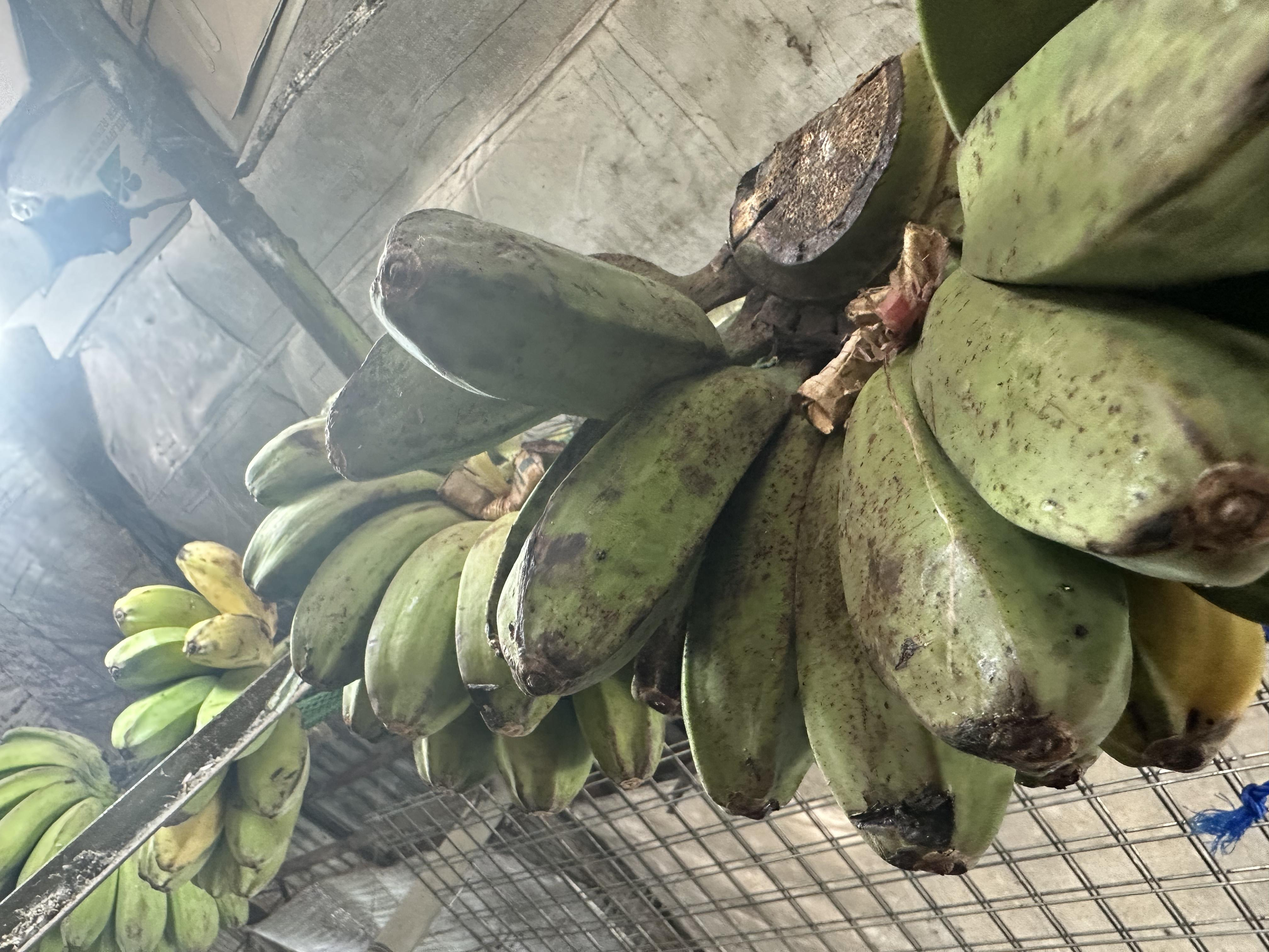underripe: (326, 0, 1269, 874), (244, 416, 664, 812), (104, 541, 277, 762), (137, 705, 310, 898), (30, 852, 249, 952), (0, 727, 110, 905)
